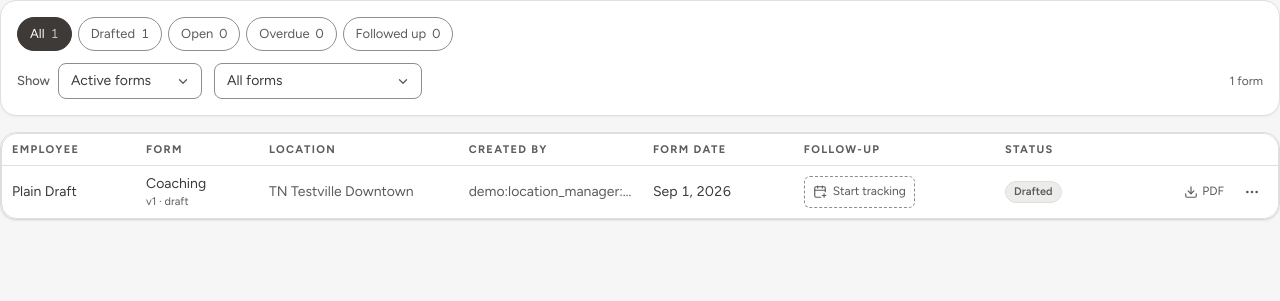
Test: delete and archive still work as they did › offers Delete on a draft
The image size is (1280, 301).
Click the button named "more actions" at (1252, 192), box [1236,176,1268,208]
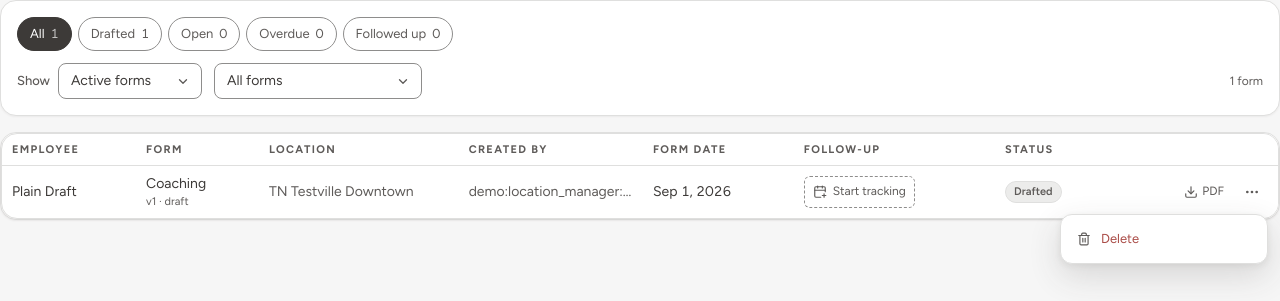
Check: the menu item "Delete" is shown, box [1077,231,1139,246]
